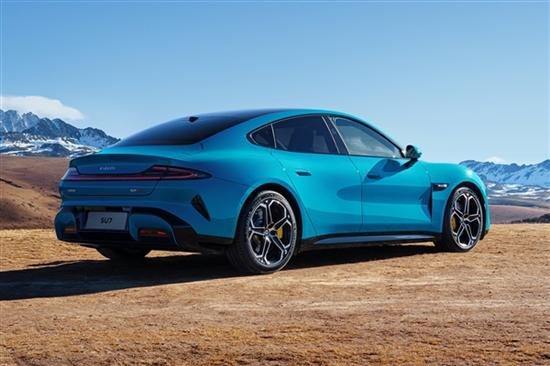su7: (58, 106, 491, 265)
